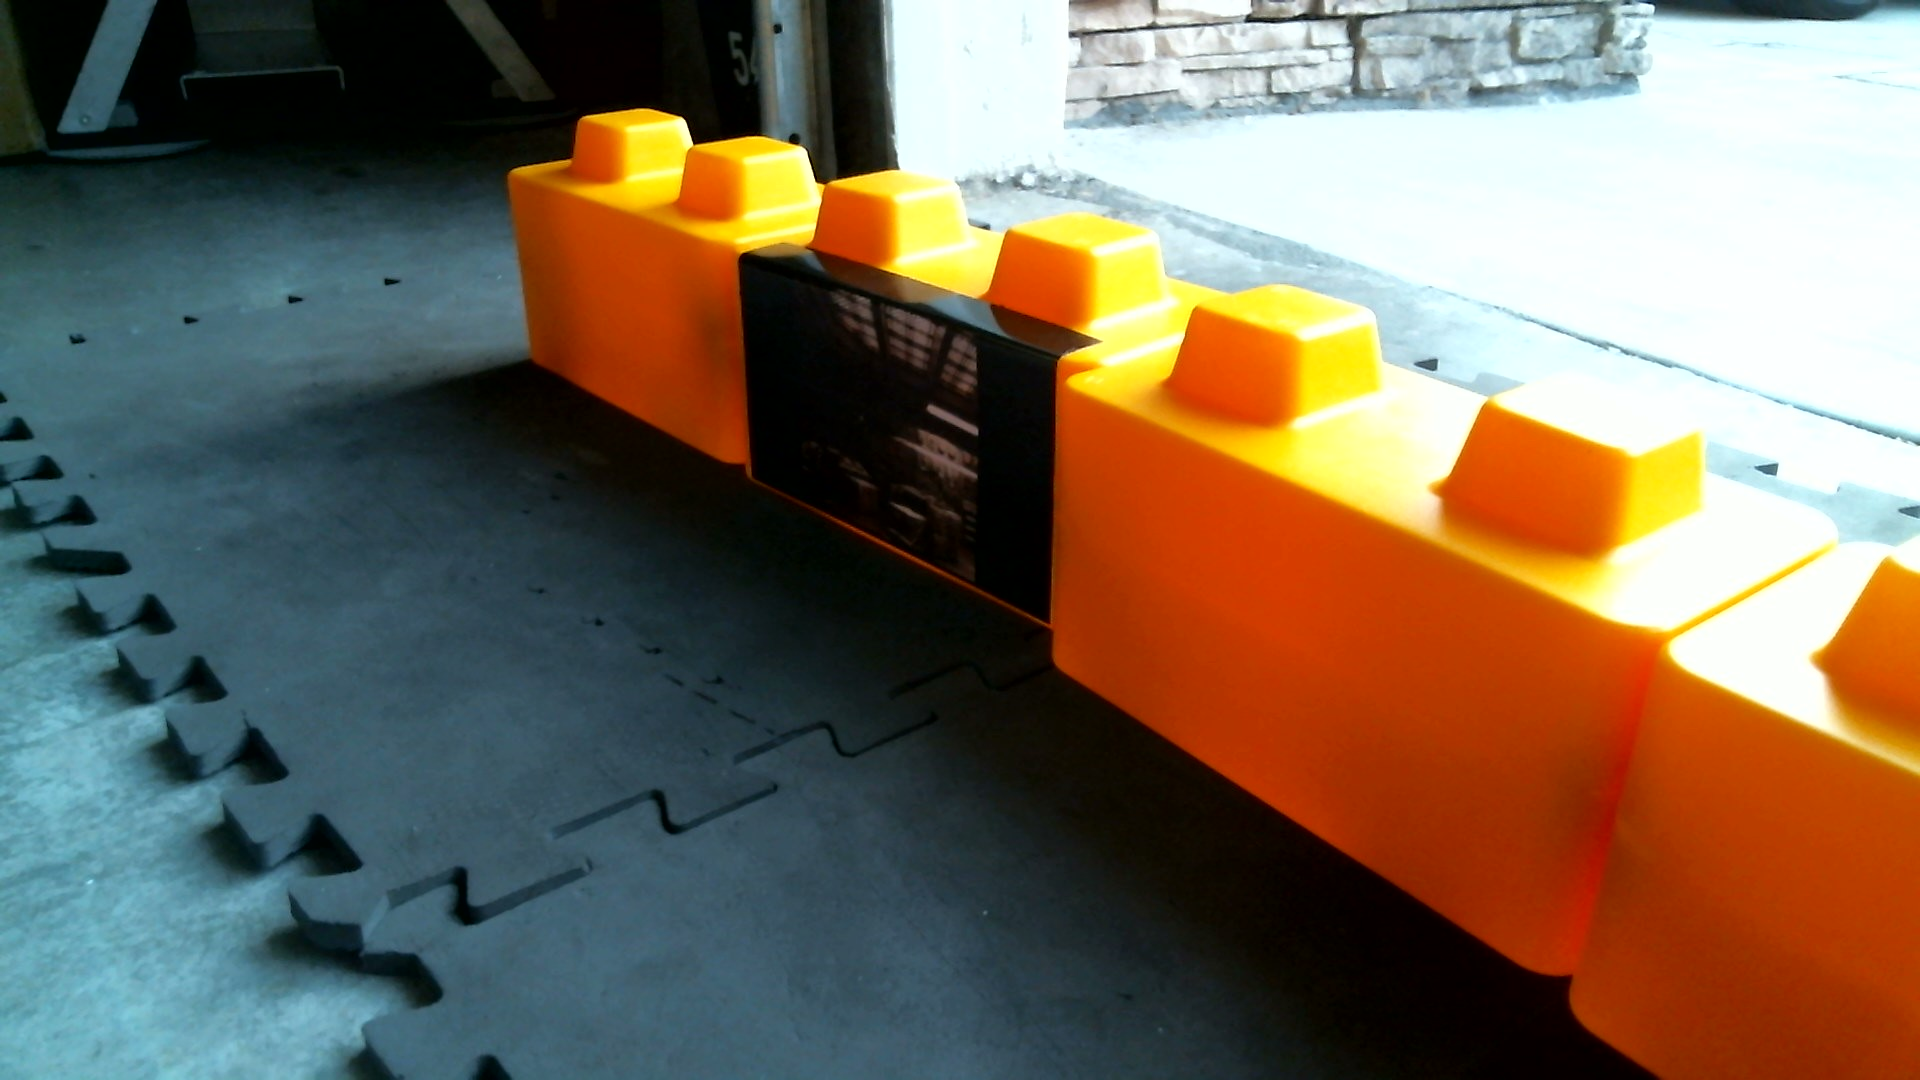center: (483, 87, 1861, 1025)
